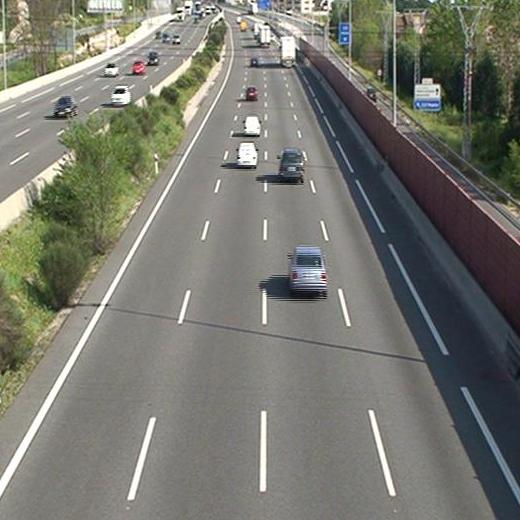car: (290, 246, 327, 291), (280, 149, 305, 179), (237, 142, 258, 166), (243, 116, 260, 134), (246, 87, 257, 99), (250, 56, 258, 64)
truck: (281, 37, 295, 66), (259, 24, 271, 47)
